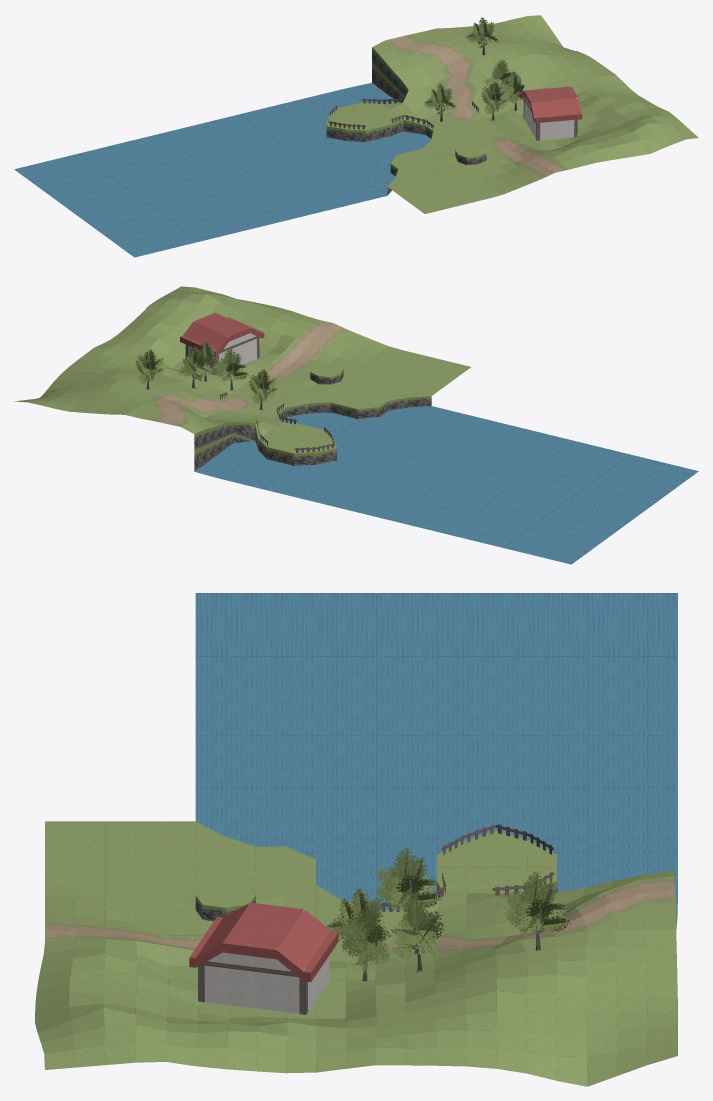
The model's file is sample_map.obj.
The picture shows the model from 3 angles, top to bottom: view 1: azimuth 30°, elevation 25°; view 2: azimuth 150°, elevation 25°; view 3: azimuth 270°, elevation 25°; orthographic projection. The views are drawn at different scales.
Visible parts, largest first — view 1: 平面, 立方体, 平面.002, 平面.006, 平面.005, 平面.008, 平面.007, 平面.003; view 2: 平面, 立方体, 平面.002, 平面.005, 平面.006, 平面.003; view 3: 平面, 立方体, 平面.006, 平面.005, 平面.003, 平面.007, 平面.008, 平面.002.
Boxes of the visible parts, x1,y1,x2,y2 form: 平面: (14, 15, 698, 257); 立方体: (519, 86, 582, 140); 平面.002: (481, 81, 508, 114); 平面.006: (466, 17, 498, 48); 平面.005: (423, 83, 456, 115); 平面.008: (328, 98, 478, 129); 平面.007: (498, 71, 524, 103); 平面.003: (484, 59, 516, 88); 平面: (14, 286, 698, 564); 立方体: (180, 313, 264, 374); 平面.002: (214, 347, 248, 381); 平面.005: (248, 369, 278, 404); 平面.006: (135, 349, 165, 384); 平面.003: (178, 346, 213, 381); 平面: (35, 593, 677, 1086); 立方体: (189, 902, 338, 1014); 平面.006: (504, 871, 570, 936); 平面.005: (375, 847, 441, 912); 平面.003: (389, 893, 444, 959); 平面.007: (339, 903, 390, 973); 平面.008: (380, 824, 553, 956); 平面.002: (326, 887, 391, 941).
Bounding box in the file's own units: 76.91 × 10.23 × 40.62.
5 materials, 5 textured.
